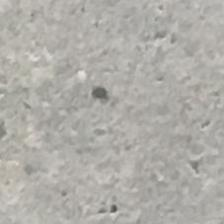Non_Crack: (22, 25, 215, 207)
